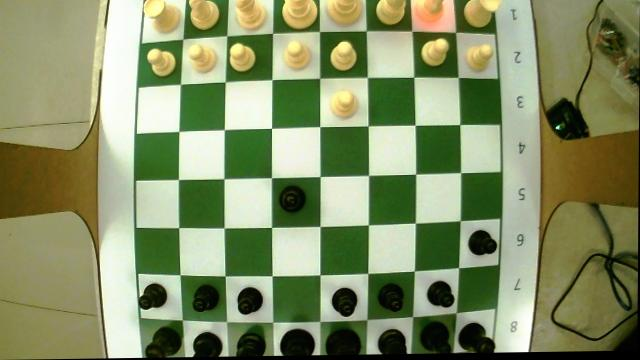piece: (147, 322, 180, 356), (145, 0, 180, 31), (281, 0, 319, 28), (325, 324, 360, 353), (234, 0, 268, 29), (283, 0, 316, 29), (420, 322, 450, 352), (459, 323, 492, 350), (465, 0, 499, 26), (189, 0, 219, 29), (326, 0, 359, 26), (190, 0, 219, 29), (280, 329, 313, 353), (190, 43, 218, 71), (237, 325, 264, 354), (463, 0, 493, 26), (227, 43, 255, 70), (193, 282, 221, 309), (148, 49, 175, 76), (375, 0, 405, 24), (279, 186, 306, 212), (330, 41, 355, 69), (378, 283, 403, 311), (420, 39, 447, 64), (377, 328, 404, 352), (333, 288, 357, 315), (375, 0, 403, 23), (469, 230, 495, 254), (466, 44, 491, 68), (238, 286, 261, 312), (193, 333, 220, 355), (286, 41, 308, 68), (429, 282, 453, 306), (334, 288, 355, 315), (416, 0, 443, 21), (141, 283, 165, 306), (331, 90, 354, 114), (428, 283, 453, 305), (379, 344, 397, 353)
